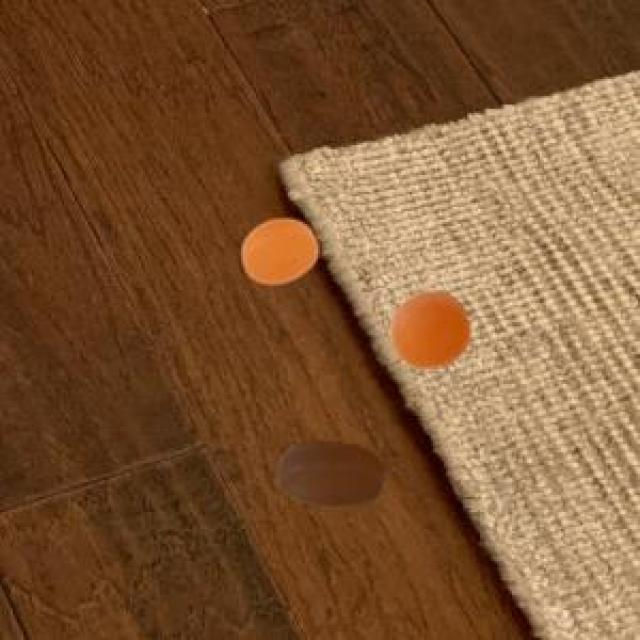Bactidol: (264, 419, 398, 531), (386, 282, 487, 382), (231, 202, 331, 300)
